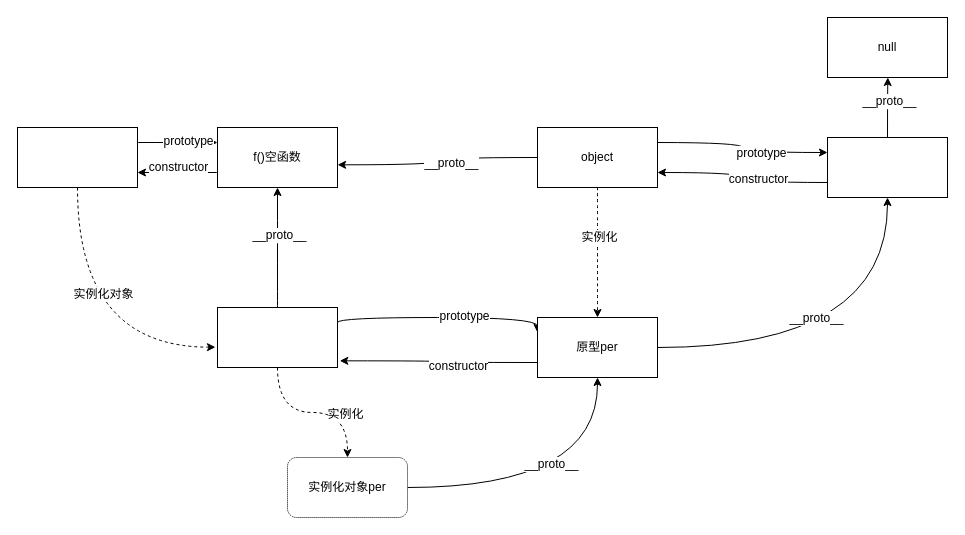
This 965x535 diagram has some shape labels left out. The shapes that lost their labels are listed below. From the top down, each one's centre as x and y in pixels, then its label:
(77,157): function
(887,167): object.prototype
(277,337): per构造函数
